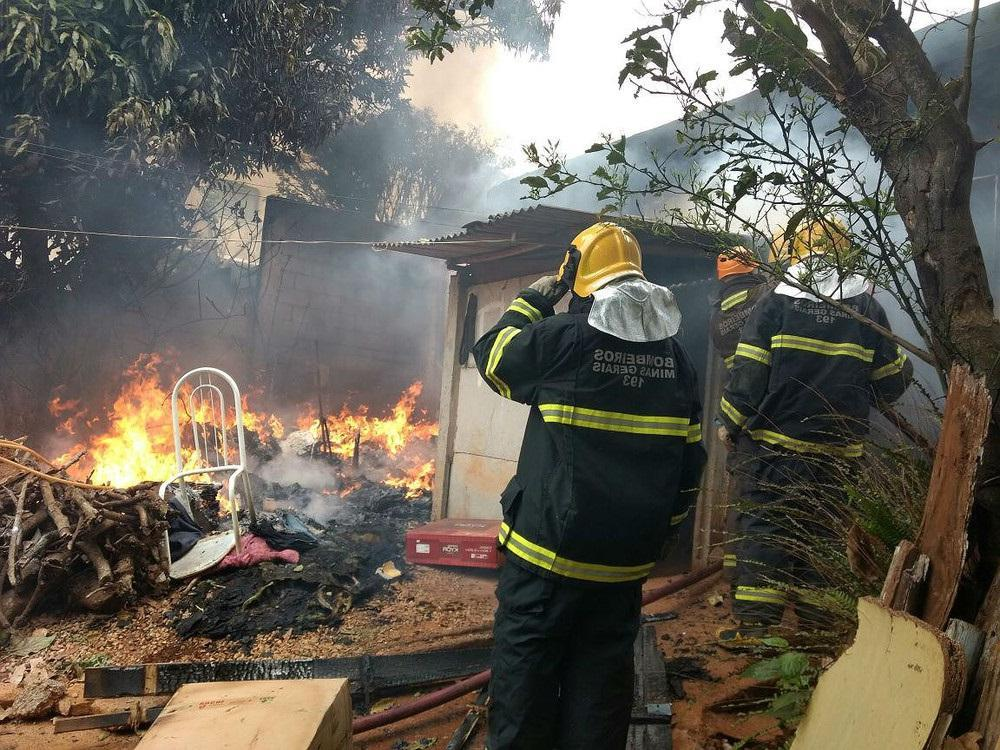Fire: (46, 348, 274, 525), (279, 376, 447, 502)
